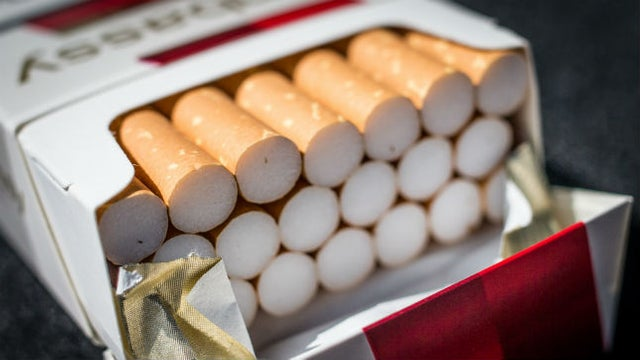cigarette: (96, 32, 530, 266)
